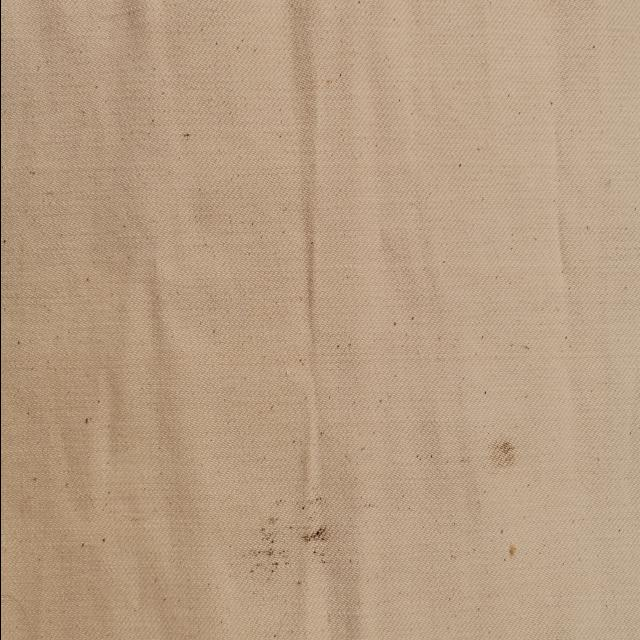taaaches: (242, 488, 334, 614), (484, 427, 520, 479), (501, 539, 524, 563)
